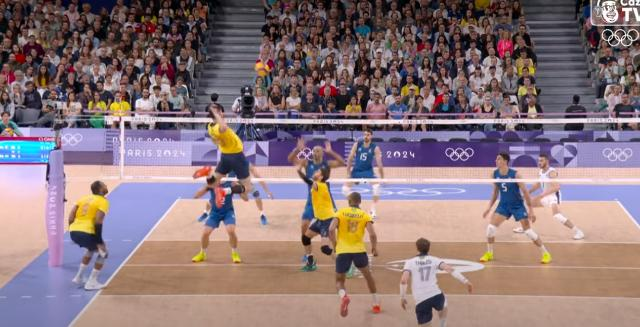Levantador: (293, 158, 337, 272), (194, 170, 240, 266)
Libero: (398, 237, 474, 327), (513, 154, 585, 242)
bola: (253, 62, 269, 78)
